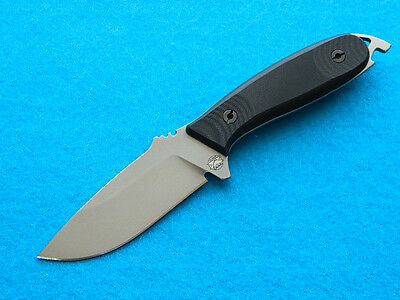knief: (31, 31, 393, 279)
